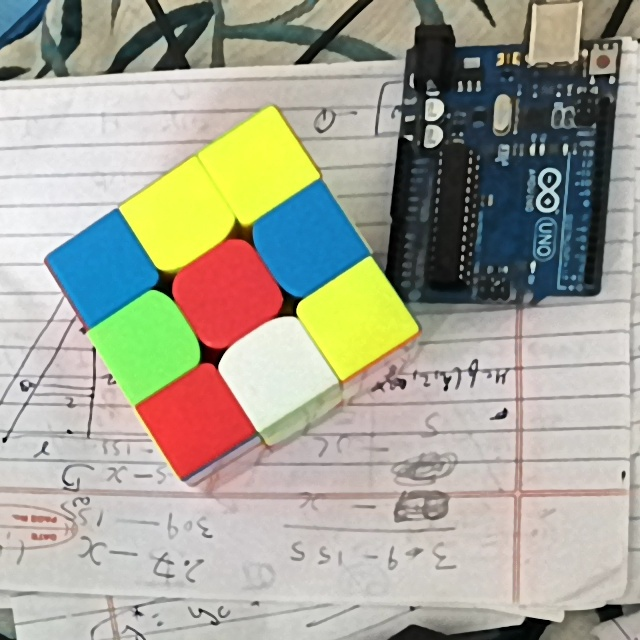tile: (248, 335, 310, 402), (193, 262, 259, 324), (276, 211, 341, 271), (150, 186, 211, 246), (114, 315, 174, 376), (226, 135, 284, 196), (324, 290, 382, 350), (73, 240, 132, 298), (168, 389, 226, 446)
